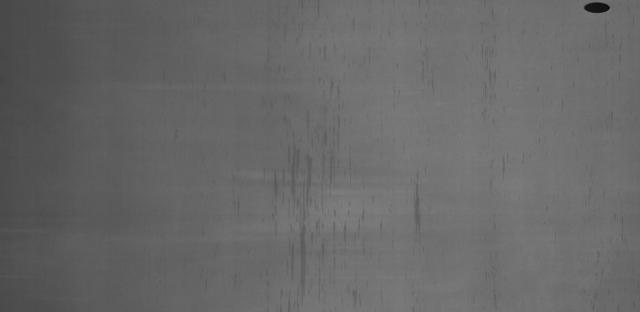oil_spot: (270, 46, 374, 296), (472, 20, 512, 112), (398, 175, 430, 246)
punching_hole: (577, 1, 612, 16)
